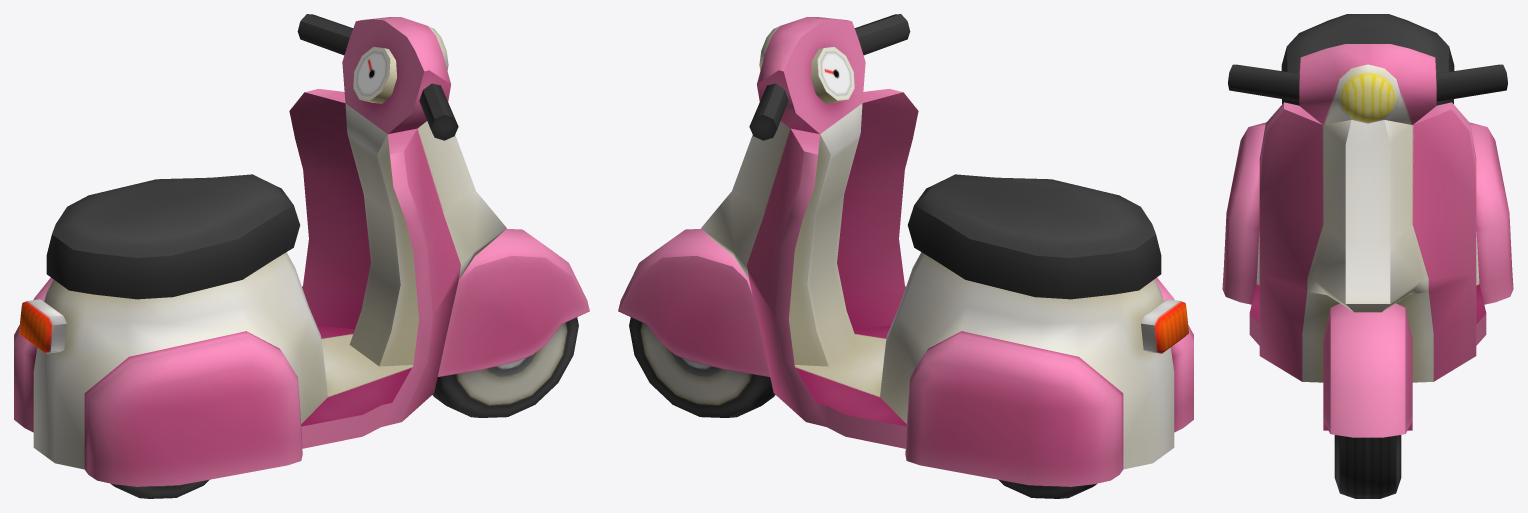
The model's file is ENV2010036.fbx.
The picture shows the model from 3 angles, left to right: view 1: azimuth 30°, elevation 25°; view 2: azimuth 150°, elevation 25°; view 3: azimuth 270°, elevation 25°; orthographic projection.
Visible parts, largest first — view 1: smENV2010036; view 2: smENV2010036; view 3: smENV2010036.
Boxes of the visible parts, x1,y1,x2,y2 form: smENV2010036: (14,14,589,498); smENV2010036: (618,14,1193,498); smENV2010036: (1222,14,1513,498).
Bounding box in the file's own units: 15.69 × 11.11 × 7.33.
1 material, 1 textured.
